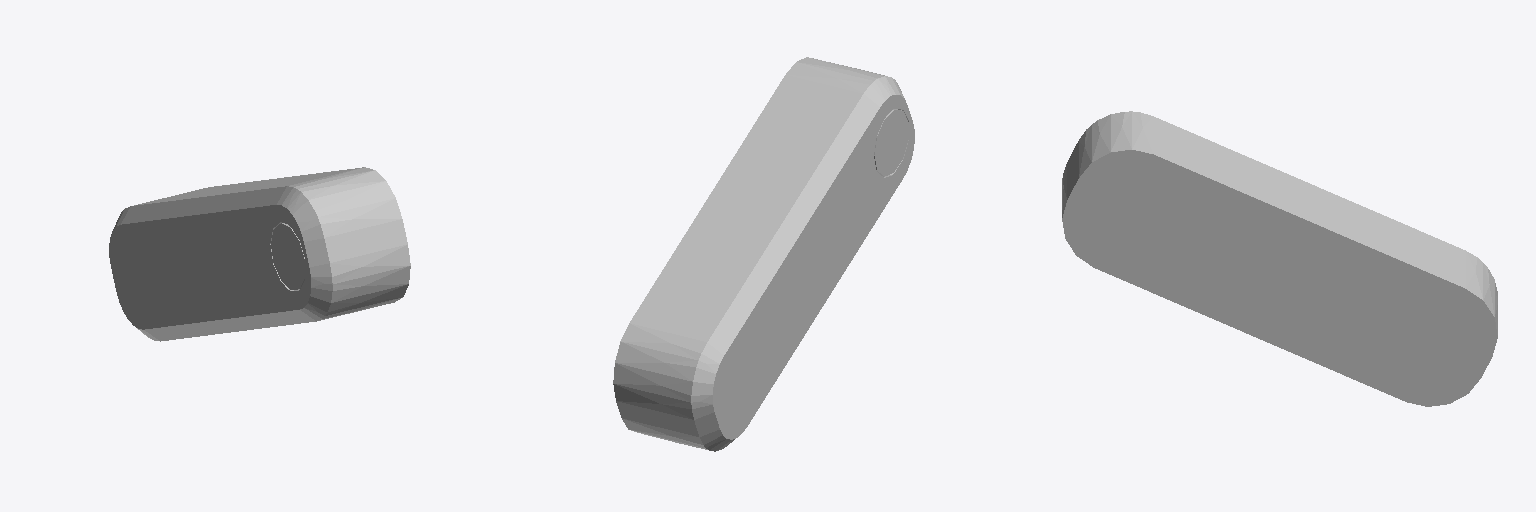
3 renders of one model, left to right at view 1: azimuth 30°, elevation 25°; view 2: azimuth 150°, elevation 25°; view 3: azimuth 270°, elevation 25°, orthographic.
Parts seen in each view (by area): view 1: SciFi_Prop_25_10; view 2: SciFi_Prop_25_10; view 3: SciFi_Prop_25_10.
Boxes of the visible parts, box(x1,y1,x2,y2) form: SciFi_Prop_25_10: box(109, 167, 410, 341); SciFi_Prop_25_10: box(613, 57, 914, 451); SciFi_Prop_25_10: box(1062, 111, 1497, 406).
Size of the model in its own units: 0.7571 by 2.03 by 3.12.